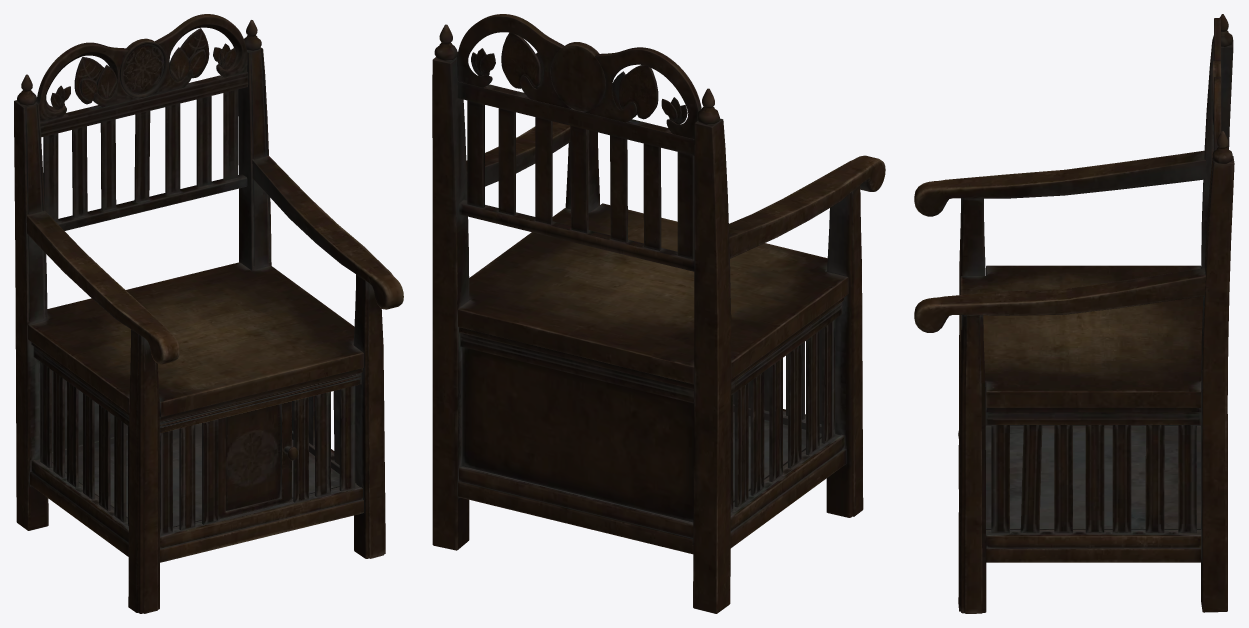
Rendered from polyhaven-gallinera-chair.glb.
3 views of the same model, side by side, from view 1: azimuth 30°, elevation 25°; view 2: azimuth 150°, elevation 25°; view 3: azimuth 270°, elevation 25° (orthographic). The views are drawn at different scales.
Visible parts, largest first — view 1: gallinera_chair; view 2: gallinera_chair; view 3: gallinera_chair.
Boxes of the visible parts, x1=… form: gallinera_chair: x1=14, y1=14, x2=403, y2=613; gallinera_chair: x1=432, y1=14, x2=885, y2=613; gallinera_chair: x1=914, y1=14, x2=1234, y2=613.
Bounding box in the file's own units: 0.5808 × 1.03 × 0.6039.
Materials: 1 (1 with a texture image).
